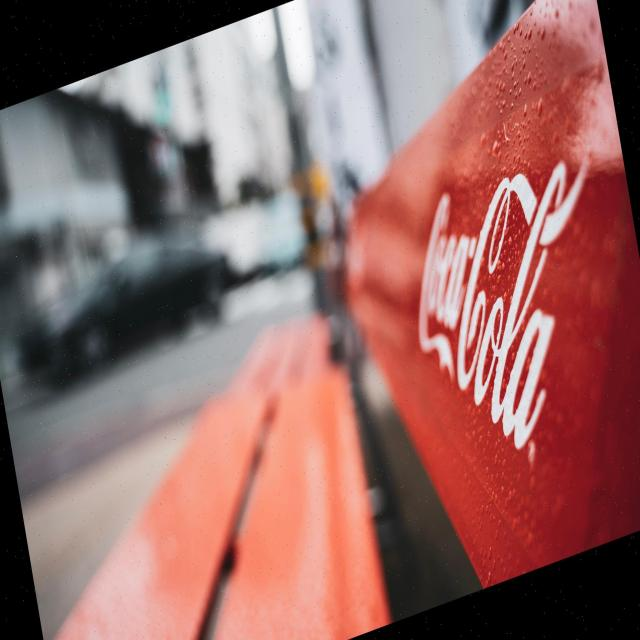coca-cola: (388, 134, 634, 495)
